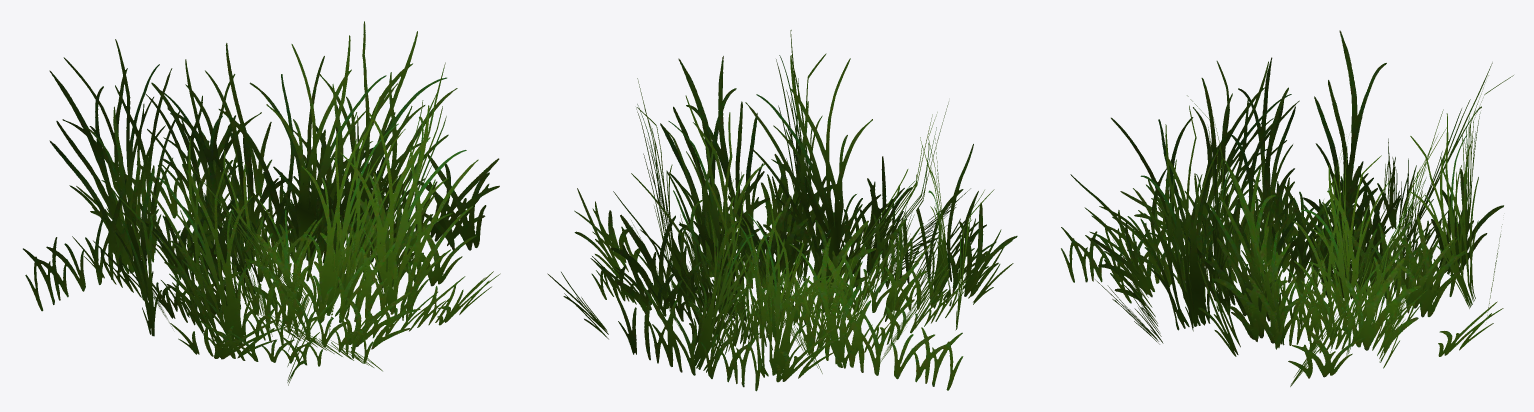
3 views of the same model, side by side, from view 1: azimuth 30°, elevation 25°; view 2: azimuth 150°, elevation 25°; view 3: azimuth 270°, elevation 25° (orthographic). The views are drawn at different scales.
Visible parts, largest first — view 1: SM_BM_GrassLong_03_LOD0; view 2: SM_BM_GrassLong_03_LOD0; view 3: SM_BM_GrassLong_03_LOD0.
Boxes of the visible parts, x1,y1,x2,y2 form: SM_BM_GrassLong_03_LOD0: (23, 21, 500, 385); SM_BM_GrassLong_03_LOD0: (547, 30, 1017, 391); SM_BM_GrassLong_03_LOD0: (1061, 30, 1513, 386).
Size of the model in its own units: 1.17 by 0.6121 by 1.08.
1 material, 1 textured.
